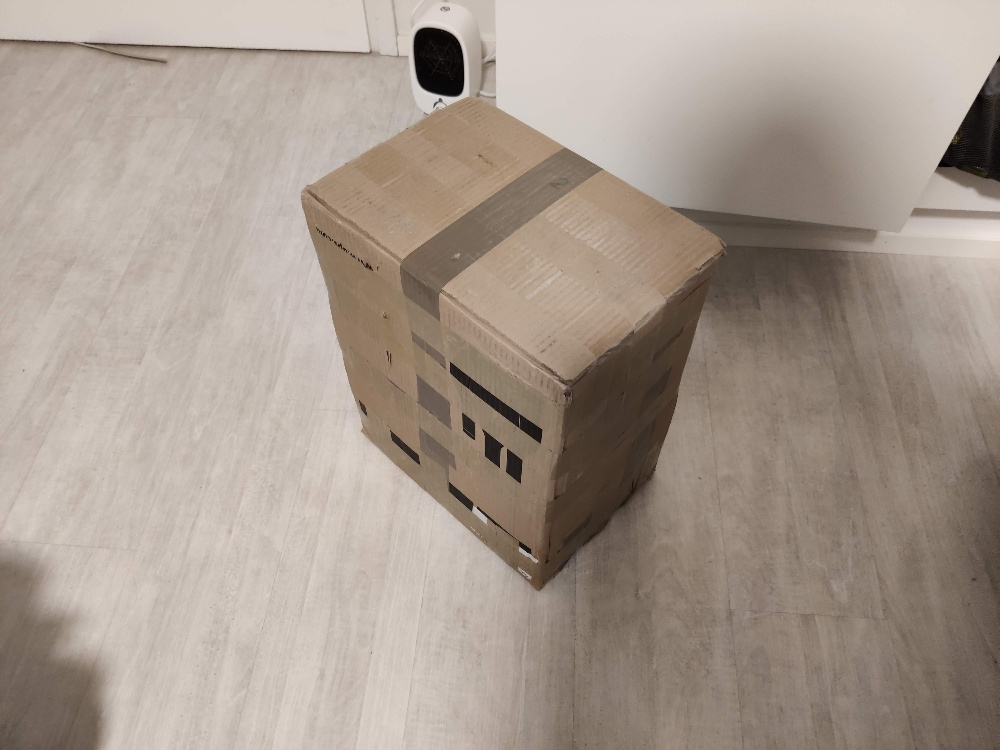good-parcel: (277, 74, 733, 613)
